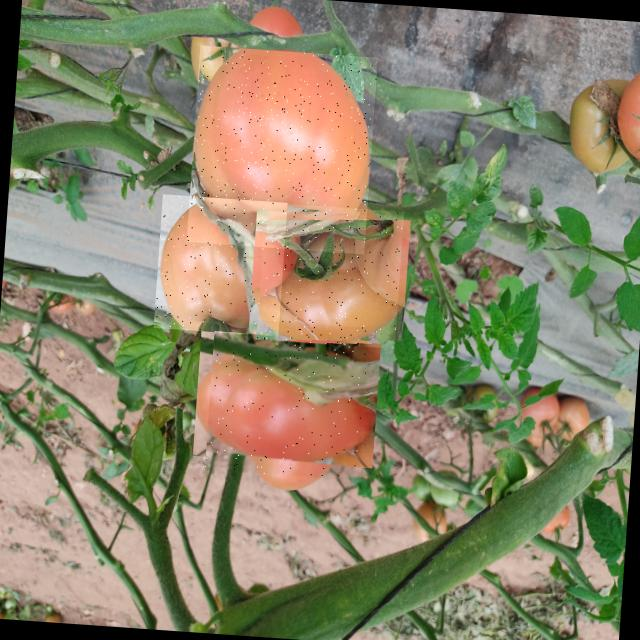Ripe Tomato: (186, 45, 378, 254), (204, 317, 368, 480), (256, 202, 404, 348), (153, 194, 287, 336)
